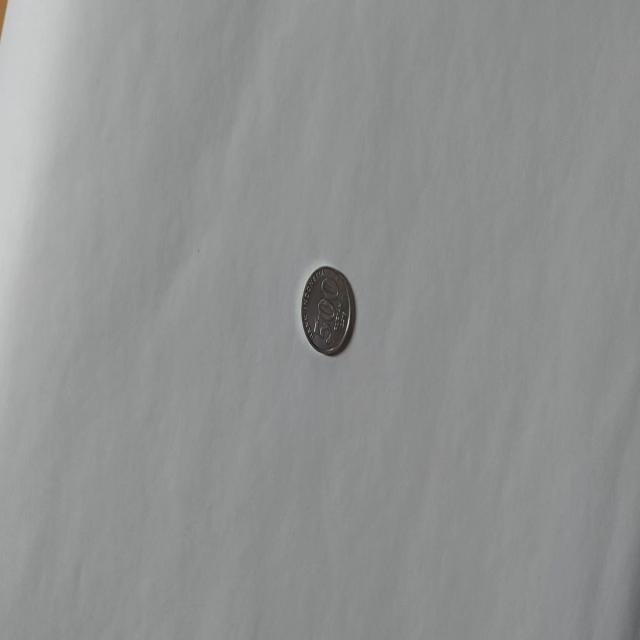lima ratus rupiah: (300, 264, 353, 356)
